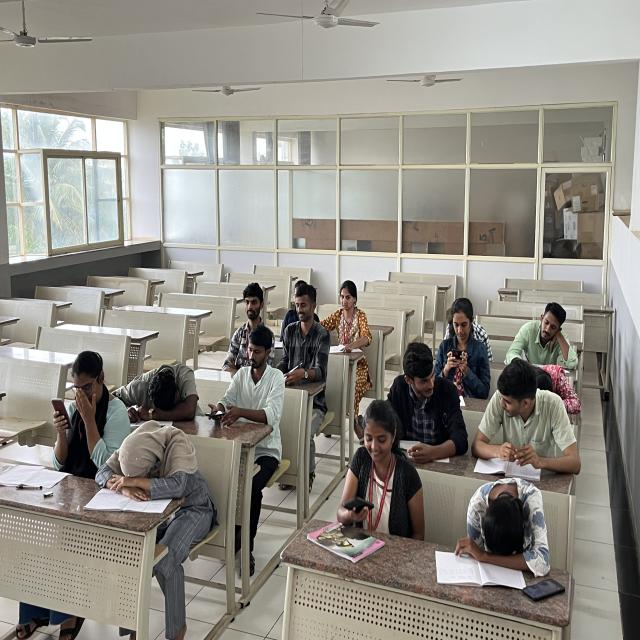Sleeping: (443, 473, 551, 576), (97, 416, 205, 508), (119, 358, 204, 422), (531, 357, 588, 413)
Using Phone: (325, 406, 426, 530), (202, 332, 288, 433), (50, 348, 125, 461), (434, 299, 490, 381)
